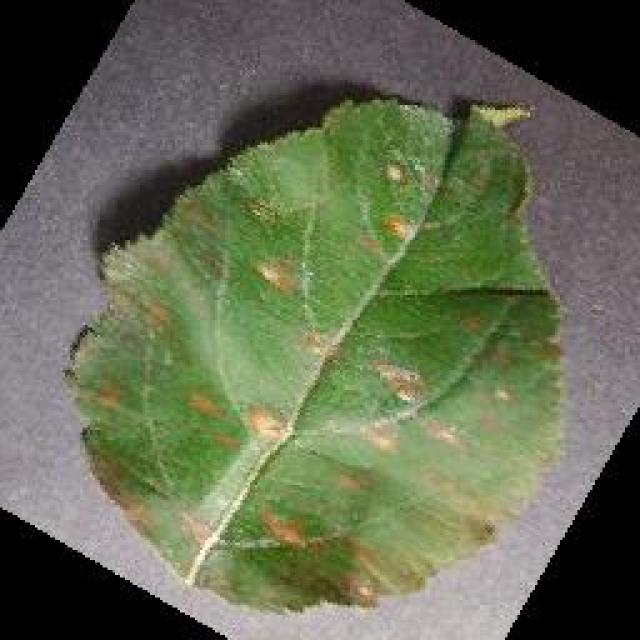apple cedar apple rust: (60, 90, 568, 618)
